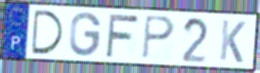2: (180, 16, 212, 64)
D: (30, 8, 66, 56)
F: (104, 13, 141, 59)
G: (68, 11, 103, 58)
K: (218, 19, 247, 65)
P: (141, 14, 177, 61)
